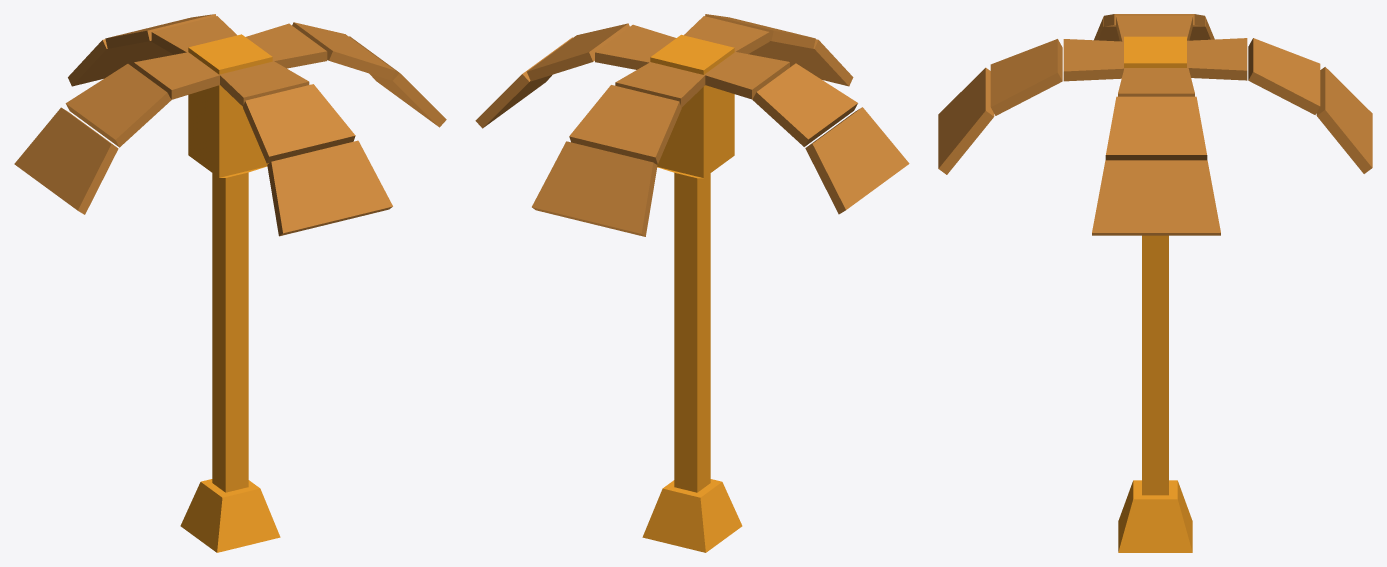
Rendered from SM_Prop_Tree_Palm_01.fbx.
3 renders of one model, left to right at view 1: azimuth 30°, elevation 25°; view 2: azimuth 150°, elevation 25°; view 3: azimuth 270°, elevation 25°, orthographic.
Parts seen in each view (by area): view 1: SM_Prop_Tree_Palm_01; view 2: SM_Prop_Tree_Palm_01; view 3: SM_Prop_Tree_Palm_01.
Boxes of the visible parts, box(x1,y1,x2,y2) form: SM_Prop_Tree_Palm_01: box(14, 14, 446, 552); SM_Prop_Tree_Palm_01: box(475, 14, 909, 552); SM_Prop_Tree_Palm_01: box(938, 14, 1372, 552).
Size of the model in its own units: 225 by 279 by 225.
